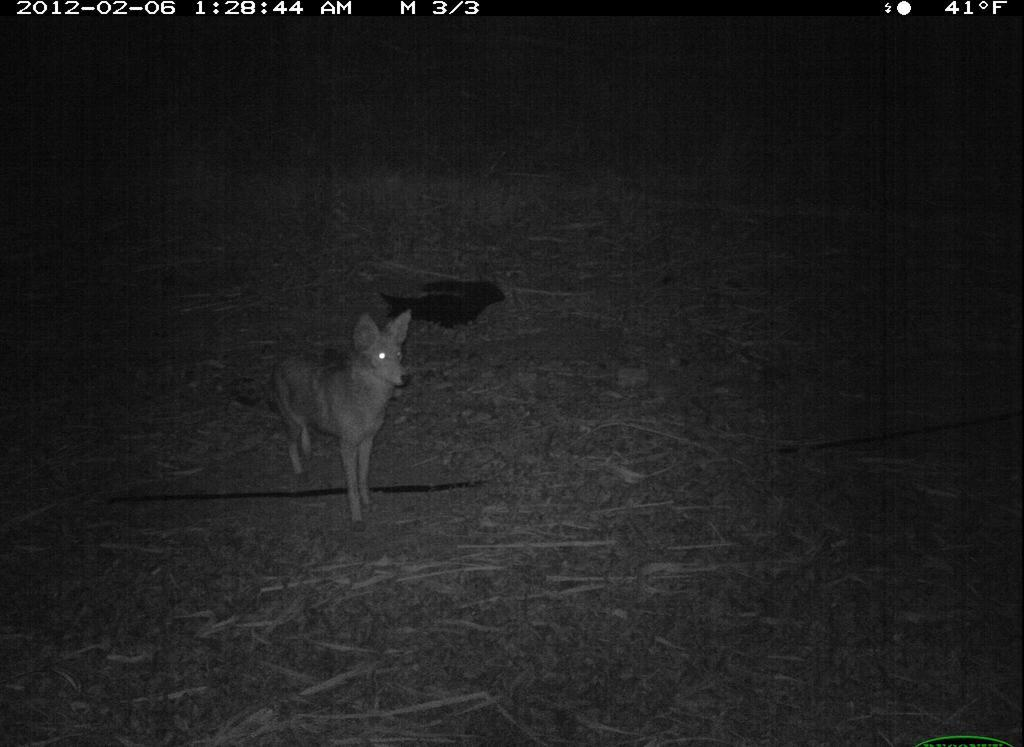coyote: (258, 304, 422, 538)
